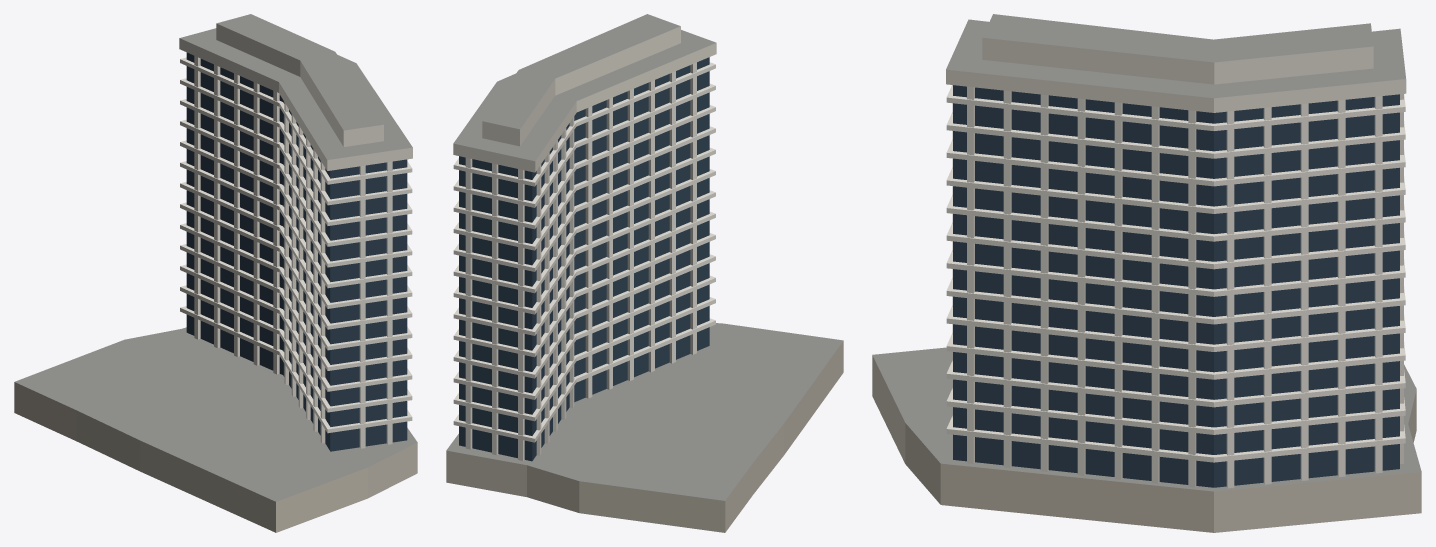
File: regency_towers_w656398429.glb
The picture shows the model from 3 angles, left to right: view 1: azimuth 30°, elevation 25°; view 2: azimuth 150°, elevation 25°; view 3: azimuth 270°, elevation 25°; orthographic projection. The views are drawn at different scales.
Parts seen in each view (by area): view 1: Tower_w656398429; view 2: Tower_w656398429; view 3: Tower_w656398429.
Part boxes in pixels (box(x1,y1,x2,y2)): Tower_w656398429: box(14, 14, 417, 532); Tower_w656398429: box(446, 14, 843, 532); Tower_w656398429: box(872, 14, 1421, 532).
Size of the model in its own units: 85.96 by 99 by 108.
